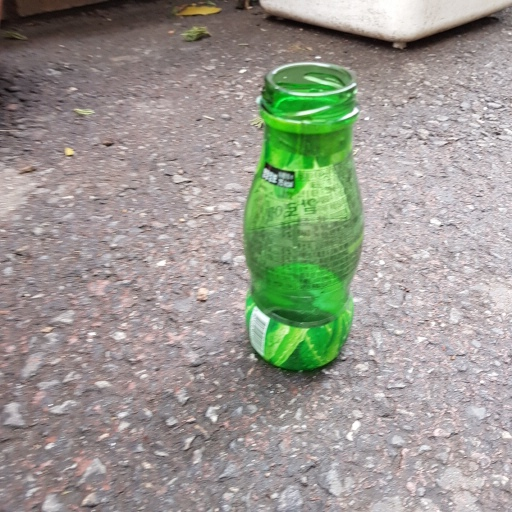Glass_4: (232, 57, 371, 378)
